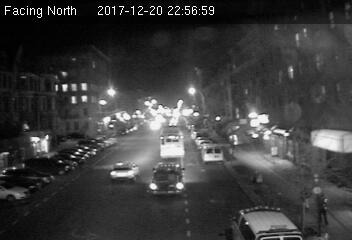bus: (159, 125, 185, 160)
car: (149, 160, 186, 197), (110, 160, 141, 181)
police: (229, 202, 303, 240)
truck: (201, 144, 224, 165)
